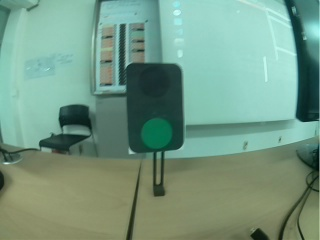green_light: (126, 61, 191, 154)
